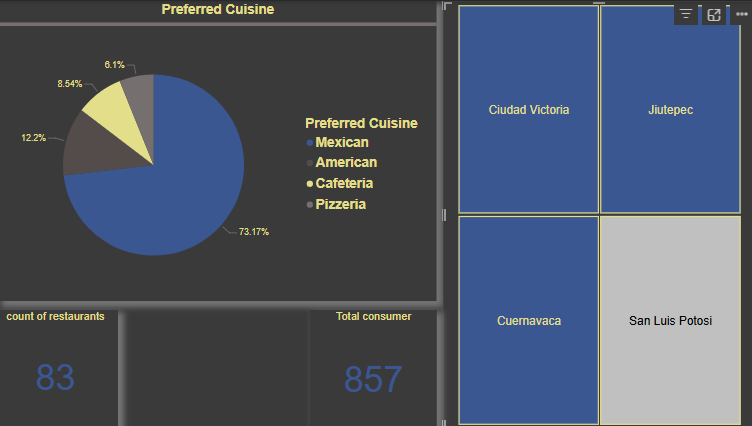

The dashboard page shown, as its layout file describes it:
{"tool":"powerbi","page":{"name":"Page 2","canvas":[1280,720],"ordinal":2},"visuals":[{"type":"pieChart","title":" Preferred Cuisine","fields":{"Category":["consumer preferences.Preferred Cuisine"],"Y":["consumer preferences.cuisine count"]},"box":[10.6,0,735.2,504.2],"z":0},{"type":"slicer","fields":{"Values":["consumers.City"]},"box":[756.4,0,523.6,719.3],"z":1000},{"type":"card","title":"count of restaurants ","fields":{"Values":["Count(the restaurants.restaurants.Name)"]},"box":[0,518.3,209.8,201],"z":2000},{"type":"card","title":"Total consumer ","fields":{"Values":["the restaurants.count of consumers"]},"box":[532.5,518.3,213.3,201],"z":3000}]}

Visuals, with their boxes in screenshot pixels (x1, y1, x2, y2), scaled from the page's 1280x720 canvas onto the 752x426 screenshot:
" Preferred Cuisine" pieChart: [left=6, top=0, right=438, bottom=298]
slicer - consumers.City: [left=444, top=0, right=751, bottom=425]
"count of restaurants " card: [left=0, top=307, right=123, bottom=425]
"Total consumer " card: [left=313, top=307, right=438, bottom=425]
